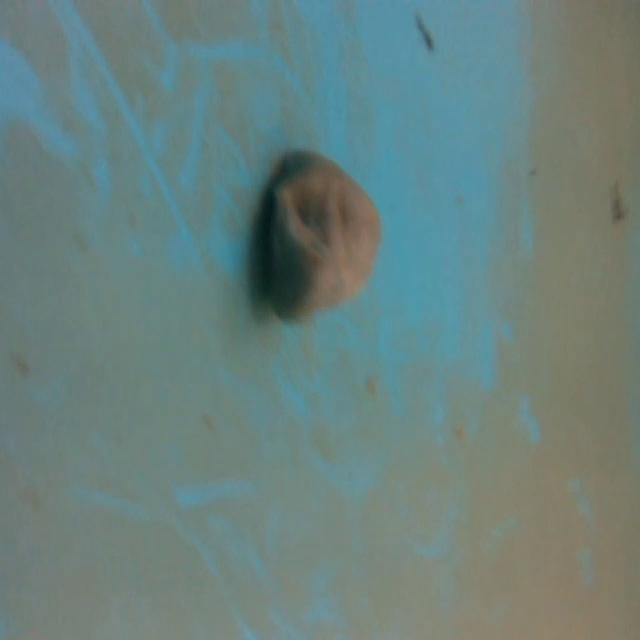rock: (255, 142, 390, 332)
